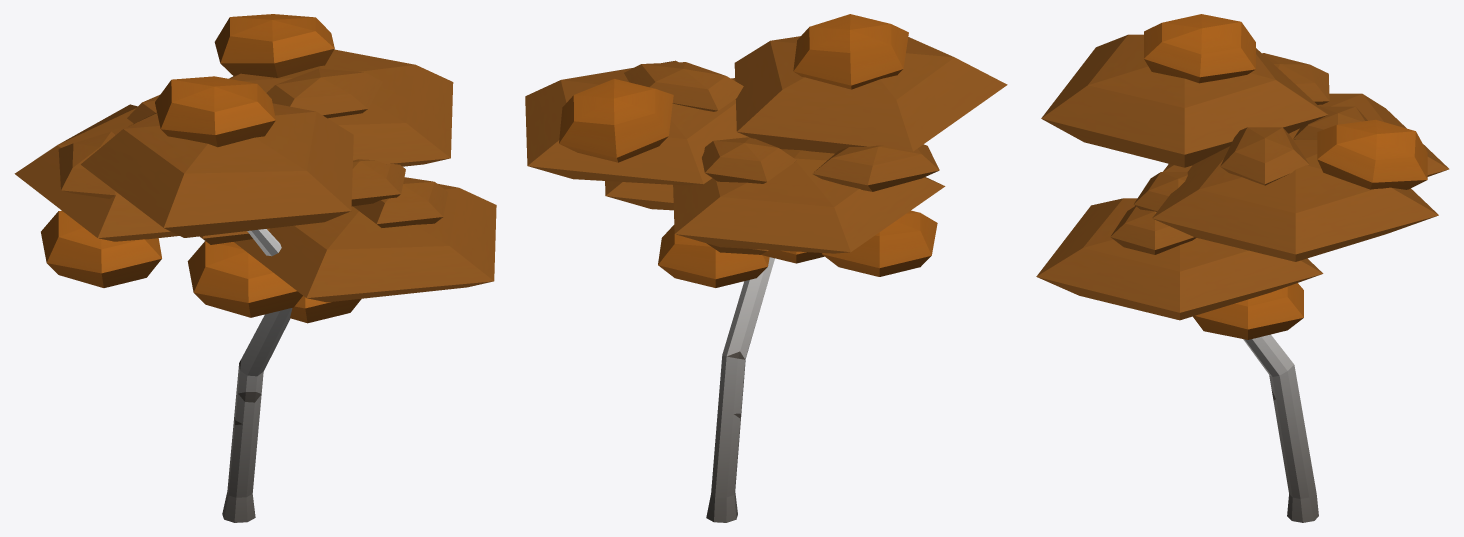
File: arbol5.fbx
The picture shows the model from 3 angles, left to right: view 1: azimuth 30°, elevation 25°; view 2: azimuth 150°, elevation 25°; view 3: azimuth 270°, elevation 25°; orthographic projection. The views are drawn at different scales.
Visible parts, largest first — view 1: arbol5; view 2: arbol5; view 3: arbol5.
Part boxes in pixels (x1,y1,x2,y2): arbol5: (14, 14, 496, 522); arbol5: (525, 14, 1007, 522); arbol5: (1036, 14, 1449, 522).
Size of the model in its own units: 1733 by 1945 by 1612.
